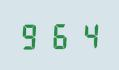four: (73, 19, 99, 49)
nine: (18, 20, 44, 50)
six: (46, 20, 72, 49)
